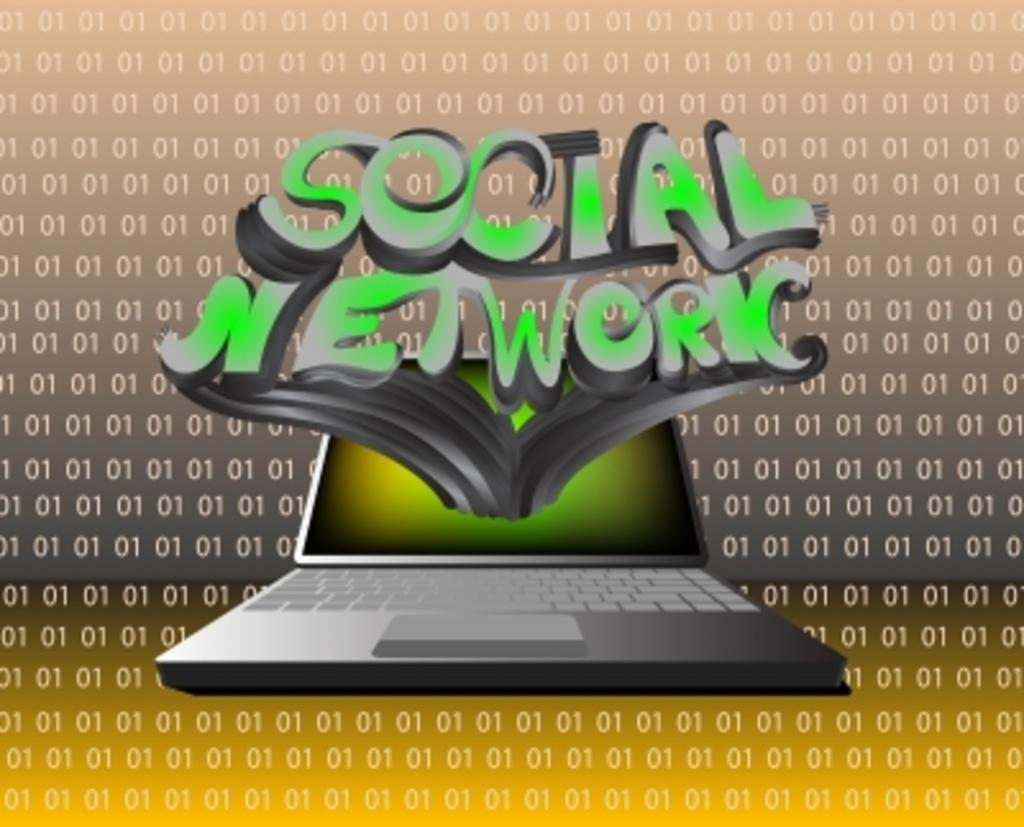Laptop: (179, 387, 863, 702)
